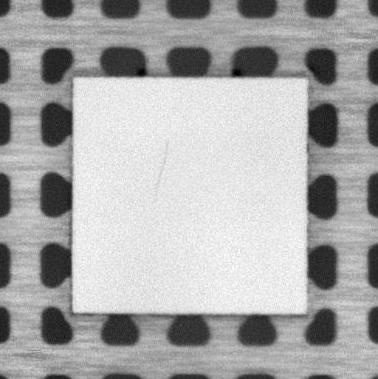DIE_CRACK: (152, 138, 168, 202)
